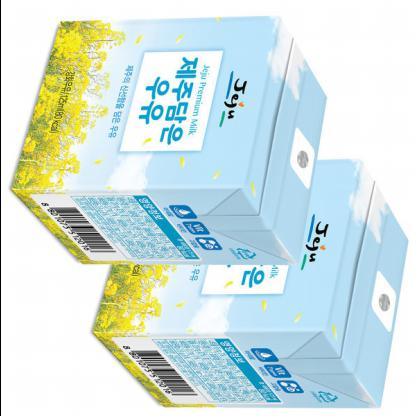tetra: (0, 0, 340, 274)
